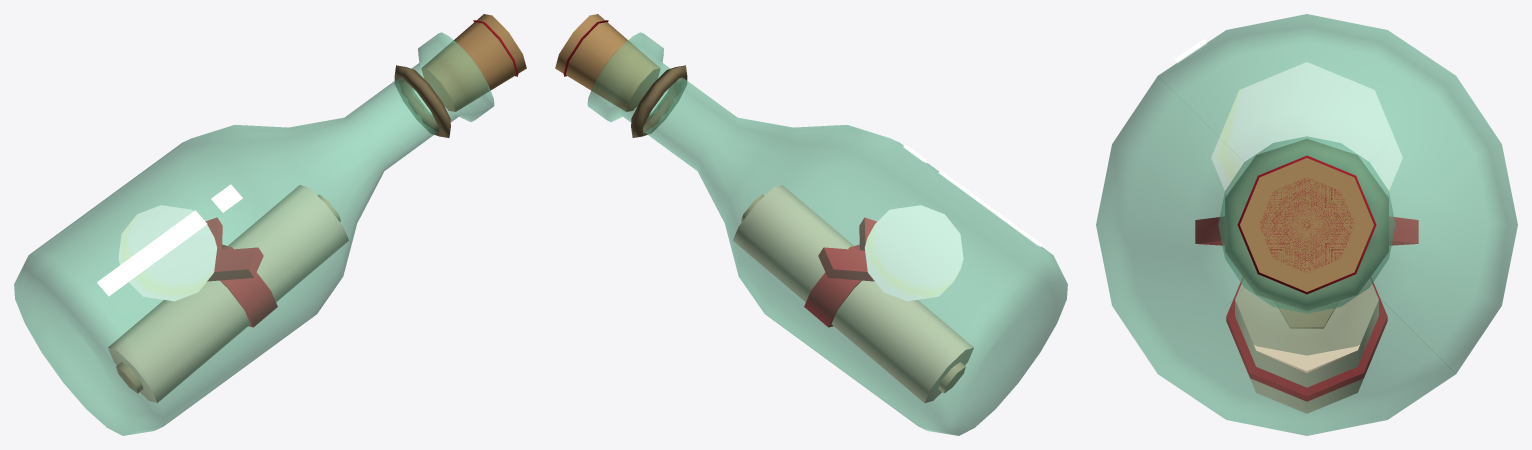
File: message-bottle.glb
3 views of the same model, side by side, from view 1: azimuth 30°, elevation 25°; view 2: azimuth 150°, elevation 25°; view 3: azimuth 270°, elevation 25° (orthographic). The views are drawn at different scales.
Visible parts, largest first — view 1: Mesh_BottleGlass, Mesh_Scroll, Mesh_Cork, Mesh_Glow, Mesh_GlassShine, Mesh_NeckTwine, Mesh_Ribbon, Mesh_RibbonBowR, Mesh_ScrollCore, Mesh_GlassShineDot; view 2: Mesh_BottleGlass, Mesh_Scroll, Mesh_Glow, Mesh_Cork, Mesh_NeckTwine, Mesh_Ribbon, Mesh_RibbonBowL, Mesh_ScrollCore, Mesh_GlassShine; view 3: Mesh_BottleGlass, Mesh_Glow, Mesh_Cork, Mesh_Scroll, Mesh_NeckTwine, Mesh_CorkTop, Mesh_Ribbon, Mesh_ScrollCore, Mesh_RibbonBowL, Mesh_RibbonBowR.
Part boxes in pixels (bbox=[...]): Mesh_BottleGlass: bbox=[14, 32, 494, 435]; Mesh_Scroll: bbox=[108, 185, 348, 402]; Mesh_Cork: bbox=[421, 14, 526, 111]; Mesh_Glow: bbox=[118, 205, 216, 301]; Mesh_GlassShine: bbox=[97, 210, 207, 296]; Mesh_NeckTwine: bbox=[394, 65, 450, 137]; Mesh_Ribbon: bbox=[220, 245, 277, 327]; Mesh_RibbonBowR: bbox=[207, 247, 263, 281]; Mesh_ScrollCore: bbox=[116, 194, 340, 393]; Mesh_GlassShineDot: bbox=[211, 184, 242, 212]; Mesh_BottleGlass: bbox=[587, 32, 1067, 435]; Mesh_Scroll: bbox=[733, 185, 973, 402]; Mesh_Glow: bbox=[865, 205, 963, 301]; Mesh_Cork: bbox=[555, 14, 660, 111]; Mesh_NeckTwine: bbox=[631, 65, 687, 137]; Mesh_Ribbon: bbox=[804, 245, 861, 327]; Mesh_RibbonBowL: bbox=[818, 247, 874, 281]; Mesh_ScrollCore: bbox=[741, 194, 965, 393]; Mesh_GlassShine: bbox=[938, 171, 1042, 246]; Mesh_BottleGlass: bbox=[1096, 14, 1517, 435]; Mesh_Glow: bbox=[1211, 62, 1402, 194]; Mesh_Cork: bbox=[1240, 158, 1373, 291]; Mesh_Scroll: bbox=[1235, 279, 1378, 413]; Mesh_NeckTwine: bbox=[1225, 139, 1388, 310]; Mesh_CorkTop: bbox=[1237, 155, 1376, 294]; Mesh_Ribbon: bbox=[1226, 278, 1387, 401]; Mesh_ScrollCore: bbox=[1275, 301, 1338, 328]; Mesh_RibbonBowL: bbox=[1389, 217, 1418, 245]; Mesh_RibbonBowR: bbox=[1195, 217, 1224, 245].
Size of the model in its own units: 2.21 by 1.4 by 0.88.
